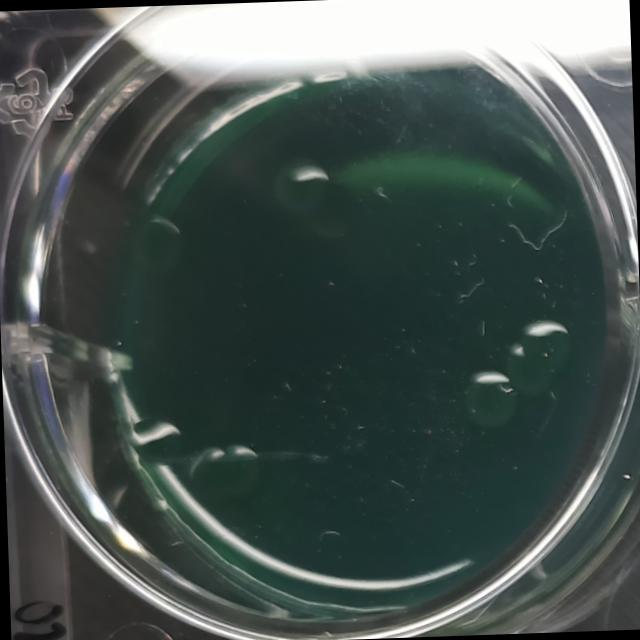vibrio: (268, 153, 348, 235), (504, 320, 577, 398), (188, 437, 260, 503), (460, 365, 520, 431), (132, 213, 188, 276), (126, 414, 188, 466)
